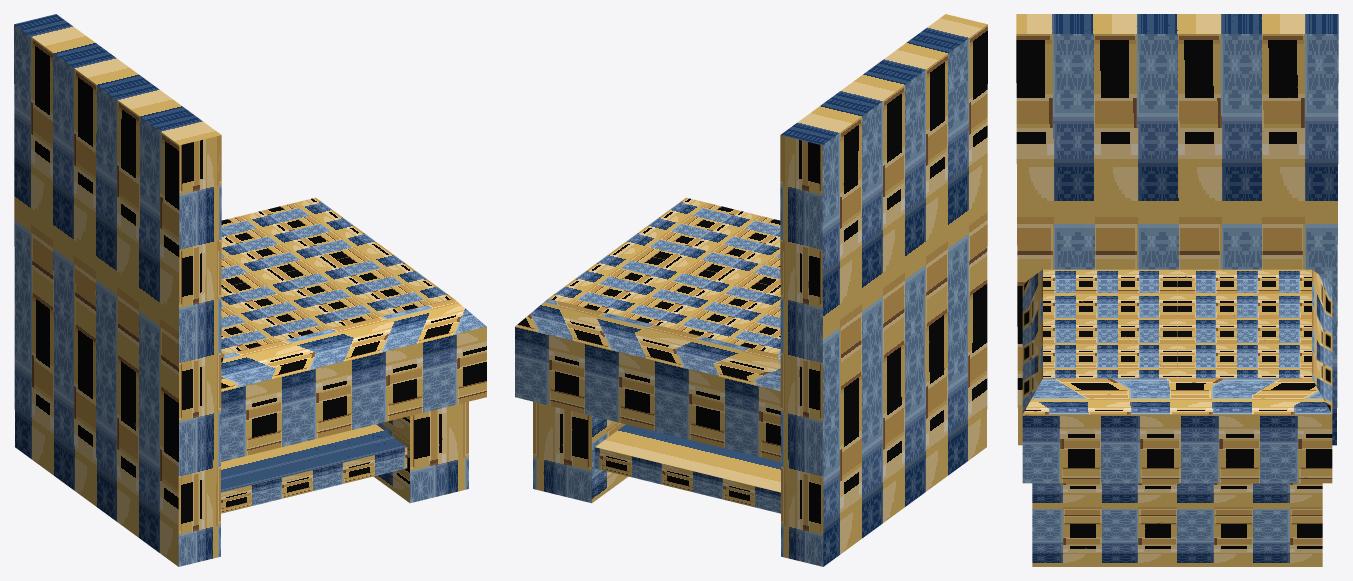
The model's file is 3574kg_15_isu.gltf.
3 renders of one model, left to right at view 1: azimuth 30°, elevation 25°; view 2: azimuth 150°, elevation 25°; view 3: azimuth 270°, elevation 25°, orthographic. The views are drawn at different scales.
Visible parts, largest first — view 1: 3574kg_15_isu; view 2: 3574kg_15_isu; view 3: 3574kg_15_isu.
Boxes of the visible parts, bbox=[...] form: 3574kg_15_isu: bbox=[14, 14, 486, 566]; 3574kg_15_isu: bbox=[515, 14, 987, 566]; 3574kg_15_isu: bbox=[1016, 14, 1338, 566].
Size of the model in its own units: 0.7588 by 0.9861 by 0.6997.
Materials: 1 (1 with a texture image).
